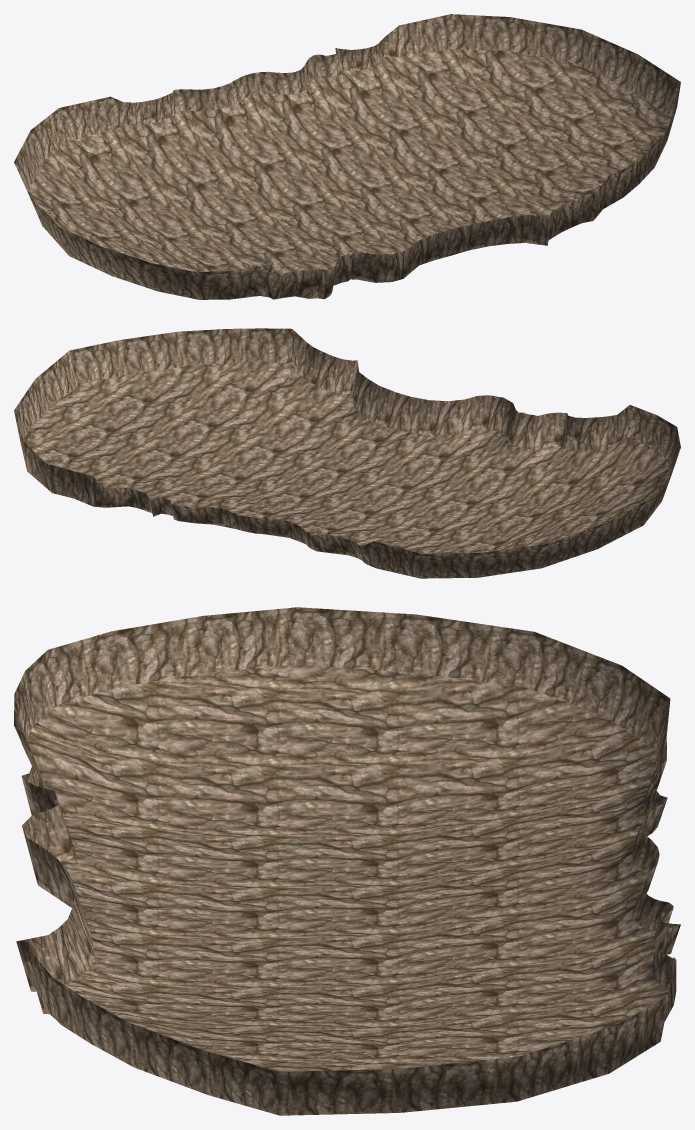
The model's file is OVERHILL_A_01_OH_LAKEBOTTOM_01029.fbx.
3 renders of one model, top to bottom at view 1: azimuth 30°, elevation 25°; view 2: azimuth 150°, elevation 25°; view 3: azimuth 270°, elevation 25°, orthographic. The views are drawn at different scales.
Visible parts, largest first — view 1: OVERHILL_A_01_OH_LAKEBOTTOM_01029; view 2: OVERHILL_A_01_OH_LAKEBOTTOM_01029; view 3: OVERHILL_A_01_OH_LAKEBOTTOM_01029.
Boxes of the visible parts, x1,y1,x2,y2 form: OVERHILL_A_01_OH_LAKEBOTTOM_01029: (14, 14, 680, 299); OVERHILL_A_01_OH_LAKEBOTTOM_01029: (14, 328, 680, 578); OVERHILL_A_01_OH_LAKEBOTTOM_01029: (14, 607, 680, 1115).
Bounding box in the file's own units: 911360 × 96885 × 555801.
Materials: 1 (1 with a texture image).
